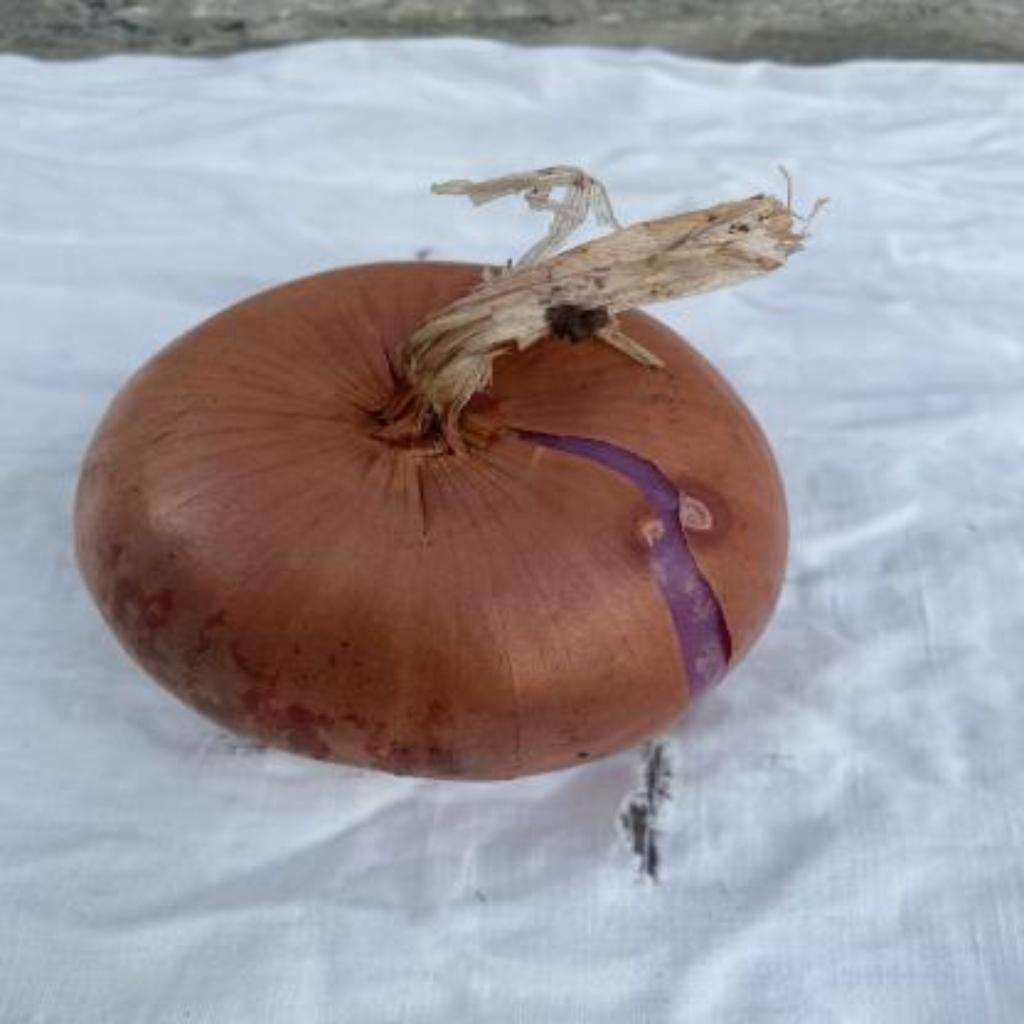Onion: (76, 167, 812, 779)
